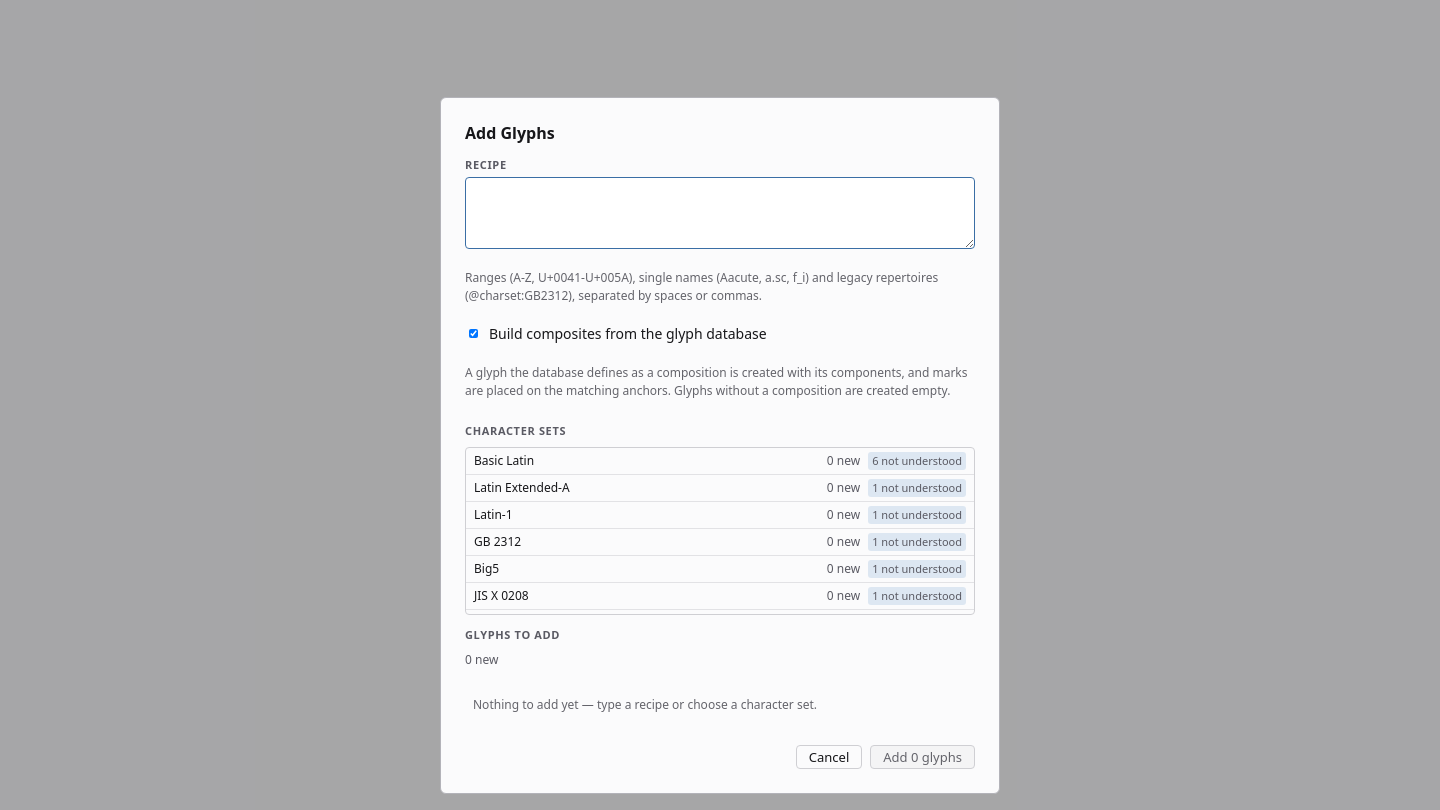
Test: AddGlyphsDialog › appends the recipe of a chosen character set
Step 1. Click the button "Latin-1 0 new 1 not understood" → (493, 515), box [466, 502, 974, 529]
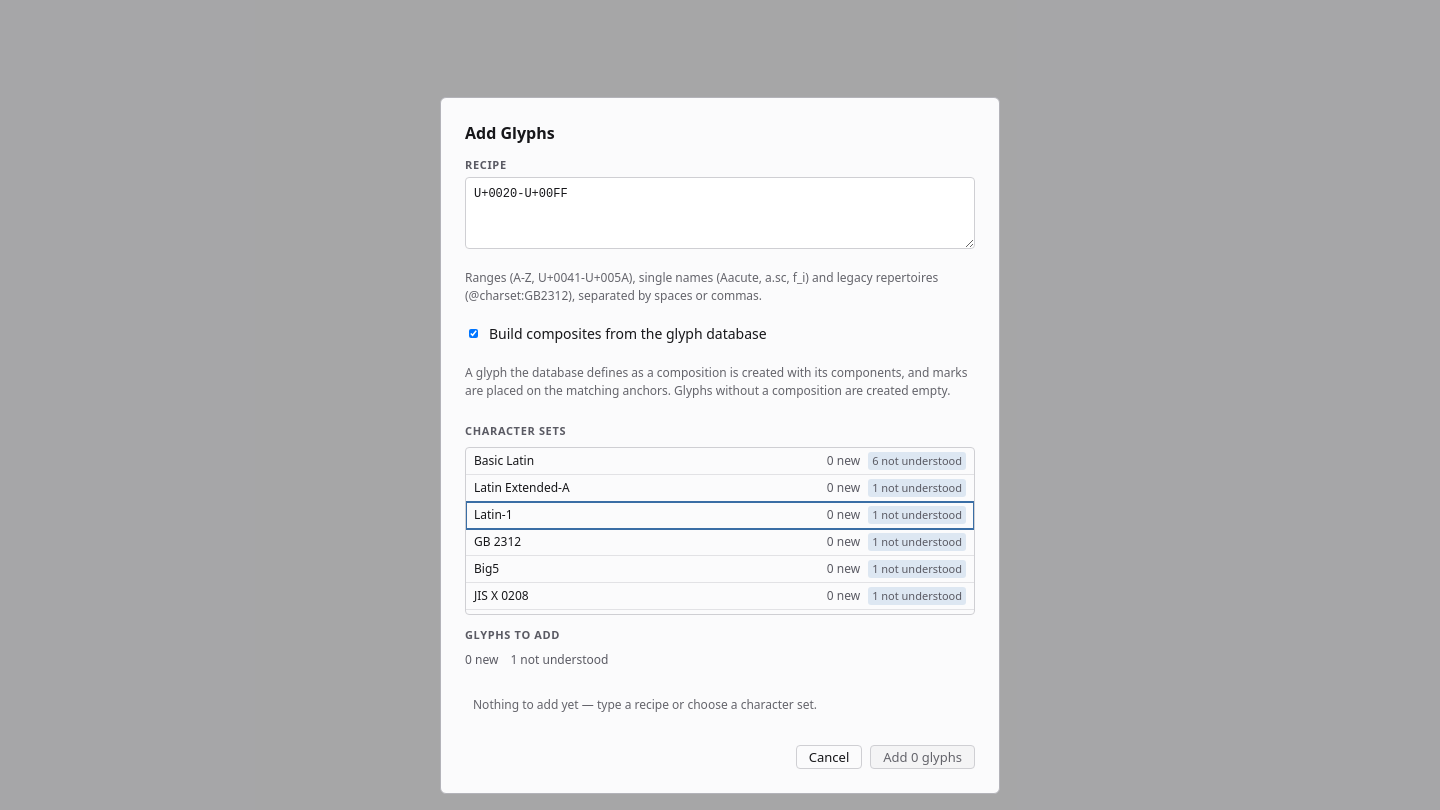
Check: the text box labelled "Recipe" holds "U+0020-U+00FF", box [465, 177, 975, 249]
